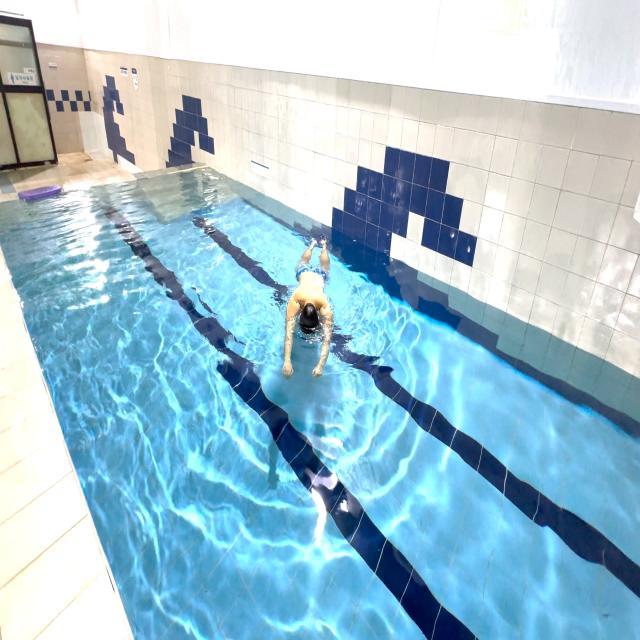Swimming: (272, 215, 344, 386)
